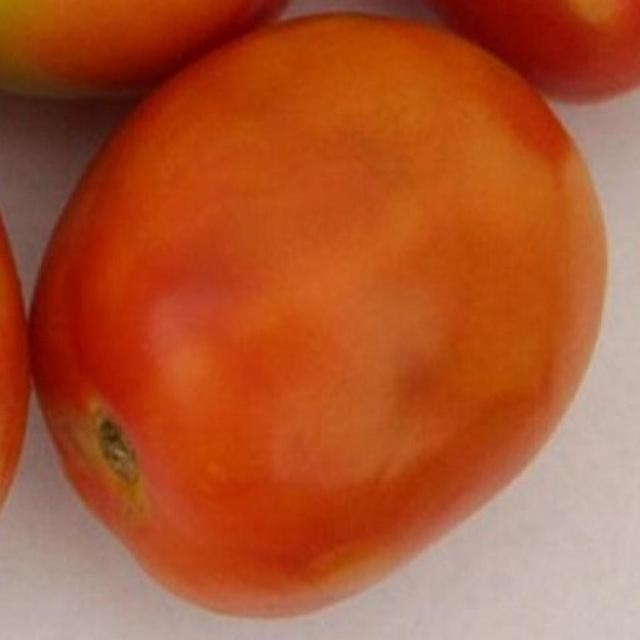Spotted wilt Virus Fruit: (17, 0, 402, 406)
